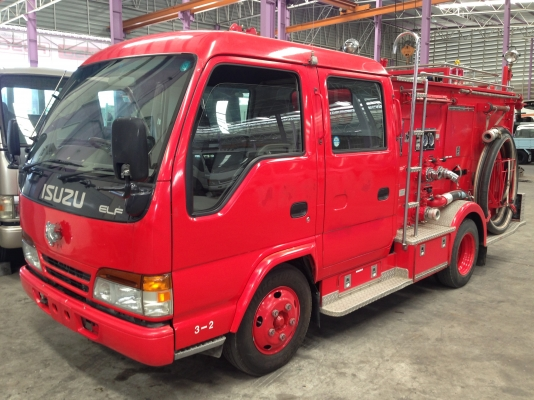truck: (17, 31, 410, 377)
